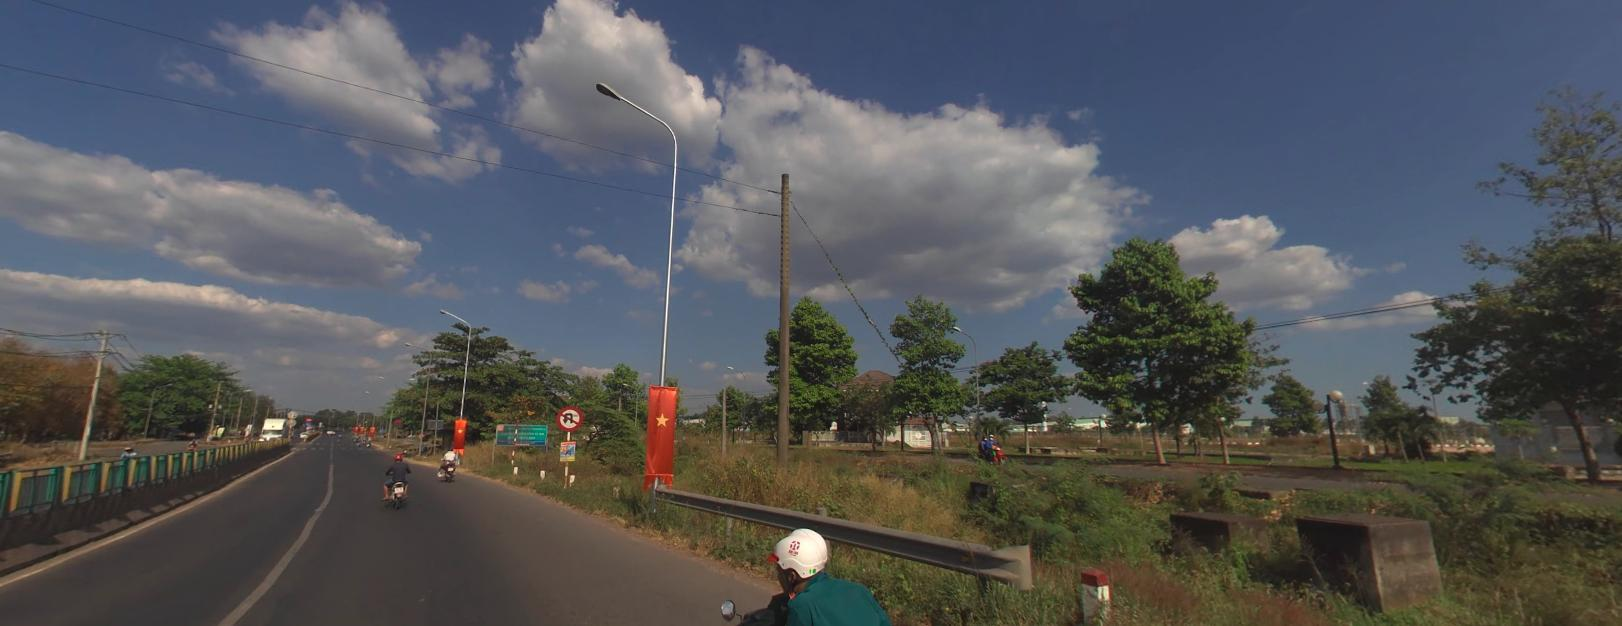Cam re: (556, 404, 582, 429)
